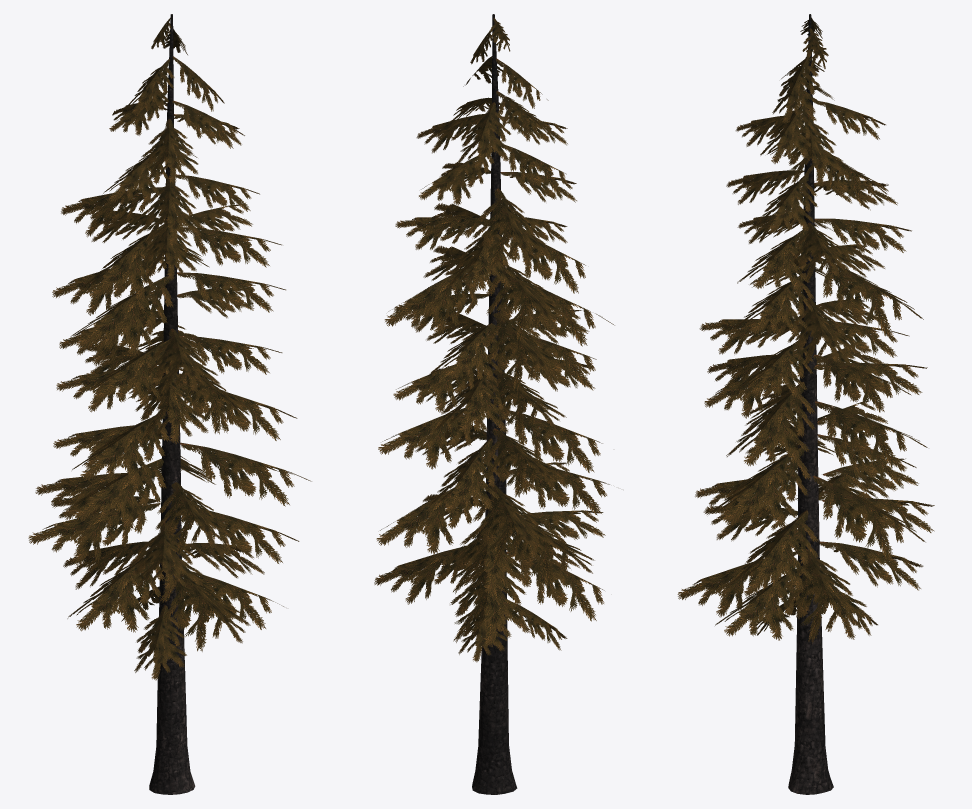
The model's file is pine_tree_n_1_3.obj.
3 views of the same model, side by side, from view 1: azimuth 30°, elevation 25°; view 2: azimuth 150°, elevation 25°; view 3: azimuth 270°, elevation 25° (orthographic).
Parts seen in each view (by area): view 1: pine_tree_n_1_3_branches, pine_tree_n_1_3; view 2: pine_tree_n_1_3_branches, pine_tree_n_1_3; view 3: pine_tree_n_1_3_branches, pine_tree_n_1_3.
Boxes of the visible parts, x1,y1,x2,y2 form: pine_tree_n_1_3_branches: (28,17,311,680); pine_tree_n_1_3: (149,14,195,794); pine_tree_n_1_3_branches: (374,17,614,662); pine_tree_n_1_3: (472,14,517,794); pine_tree_n_1_3_branches: (677,17,934,643); pine_tree_n_1_3: (788,14,833,794).
Bounding box in the file's own units: 2.03 × 5.73 × 1.92.
